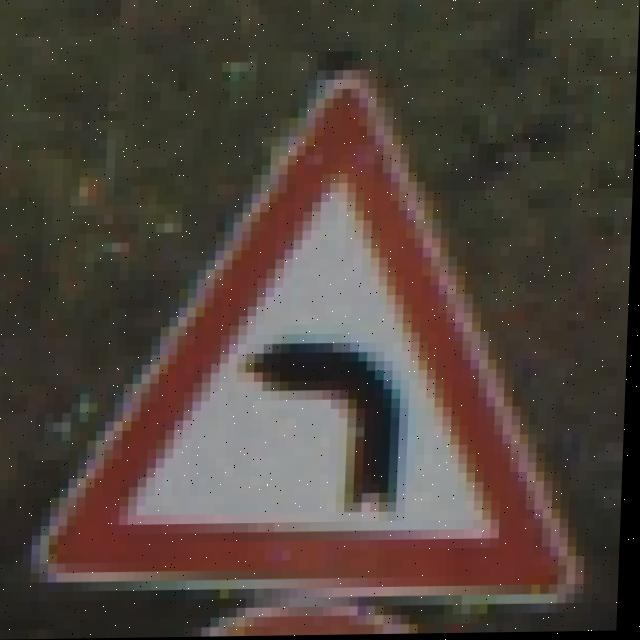left_turn: (19, 84, 606, 618)
